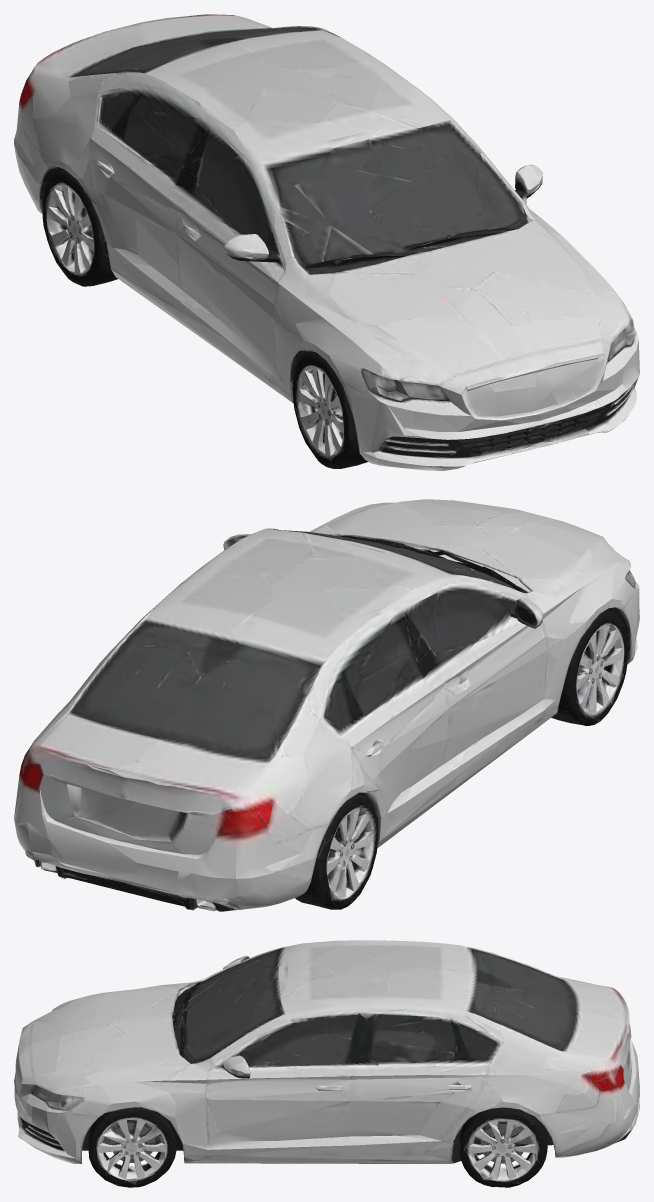
Rendered from car_sedan.glb.
3 views of the same model, one above another, from view 1: azimuth 30°, elevation 25°; view 2: azimuth 150°, elevation 25°; view 3: azimuth 270°, elevation 25° (orthographic). The views are drawn at different scales.
Parts seen in each view (by area): view 1: Mesh_0; view 2: Mesh_0; view 3: Mesh_0.
Boxes of the visible parts, x1=… form: Mesh_0: x1=14, y1=14, x2=639, y2=470; Mesh_0: x1=14, y1=499, x2=639, y2=911; Mesh_0: x1=14, y1=940, x2=639, y2=1187.
Bounding box in the file's own units: 1.95 × 1.35 × 4.5.
1 material, 1 textured.
